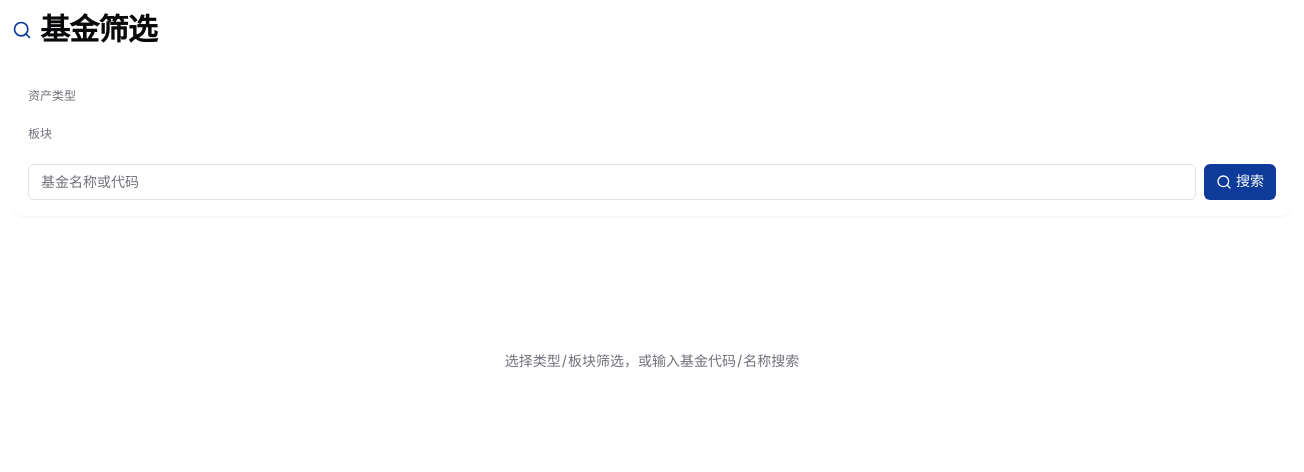
Scenario: Screener 批量加自选 › 部分失败时 warning 提示失败数量，成功清空选中
The image size is (1304, 472).
Step 1. Type "测试基金" into the field → [612, 182], box [28,164,1196,200]
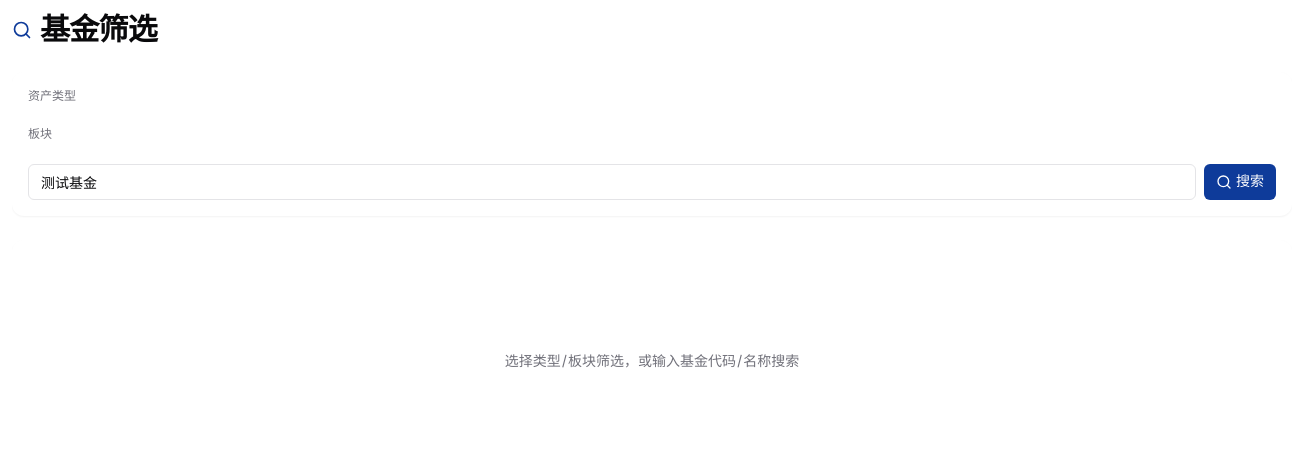
Step 2. Click the button "搜索" → [1240, 182], box [1204,164,1276,200]
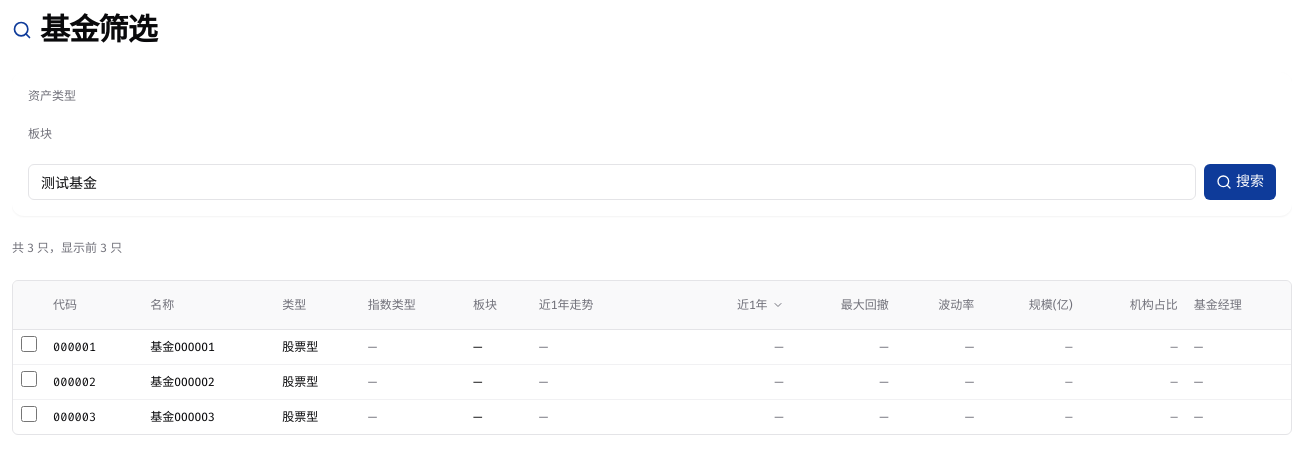
Check: the text "000001" is shown, box [45,329,142,364]
Step 3. Click the checkbox named "000001 基金000001" → [29, 344], box [21,336,37,352]
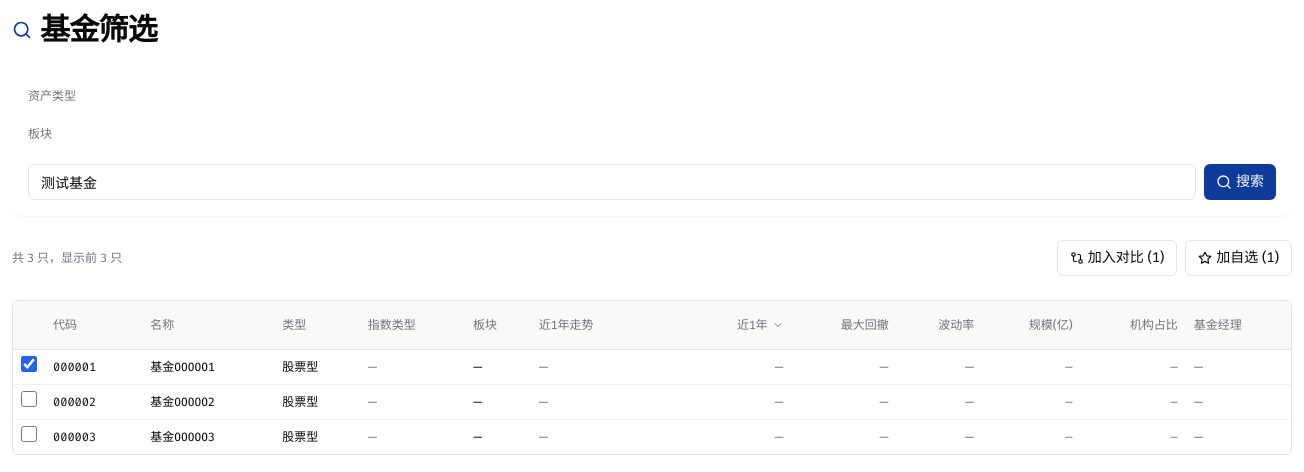
Step 4. Click the checkbox named "000002 基金000002" → [29, 398], box [21,390,37,406]
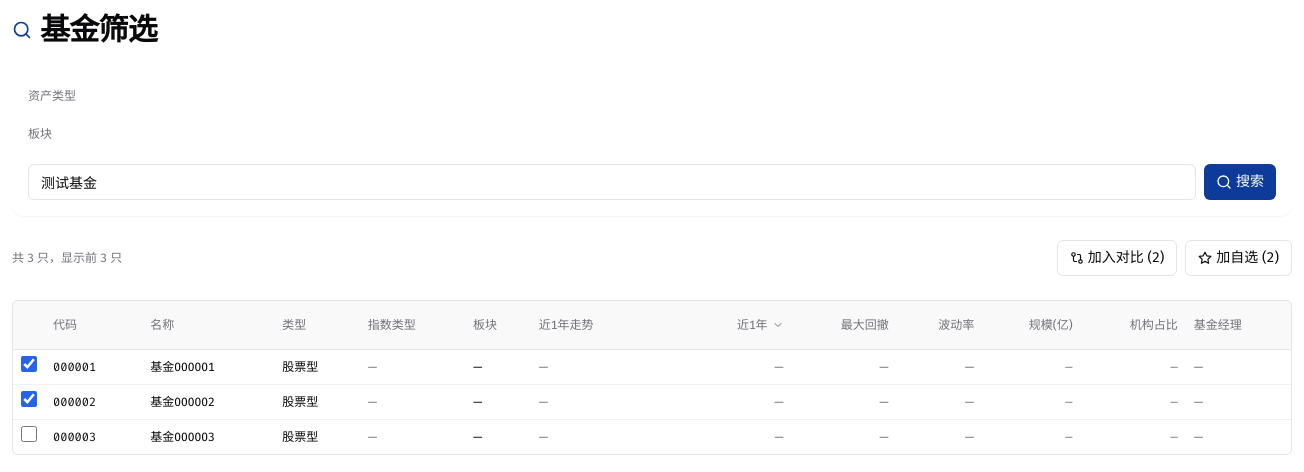
Step 5. Click the checkbox named "000003 基金000003" → [29, 434], box [21,426,37,442]
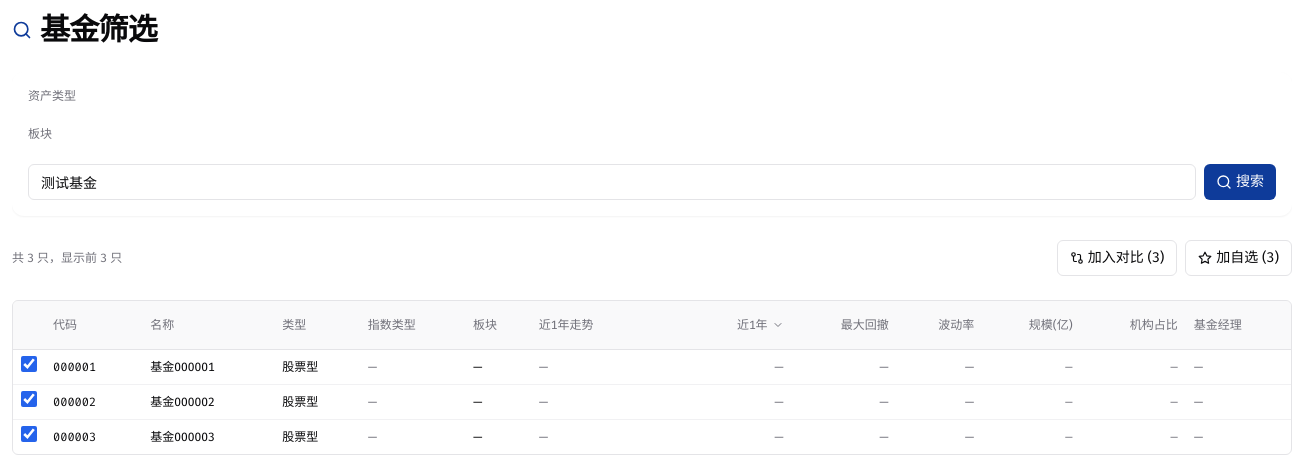
Step 6. Click the button "加自选 (3)" → [1239, 258], box [1185,240,1292,276]
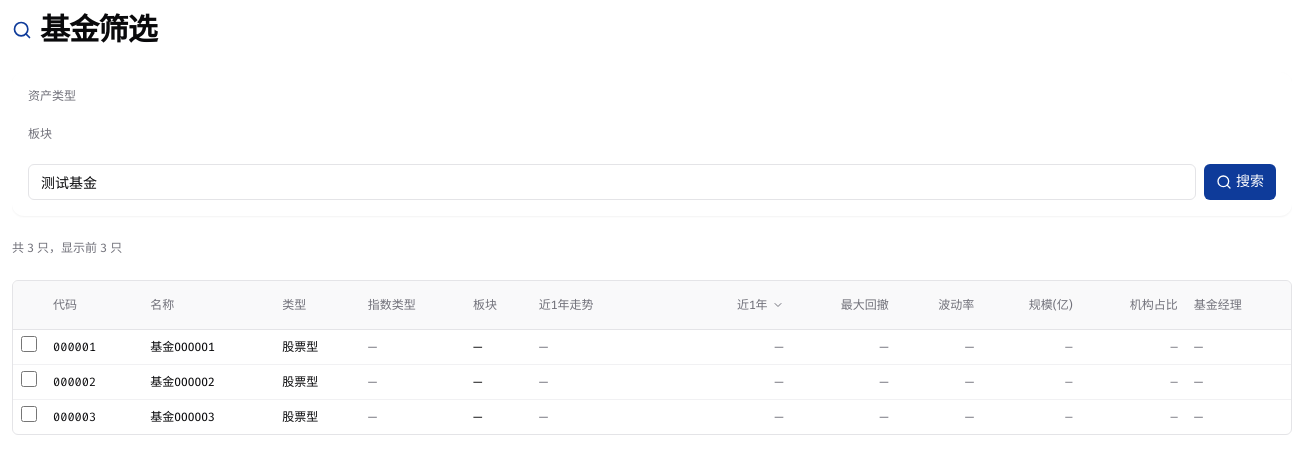
Check: the button "加自选" is gone
